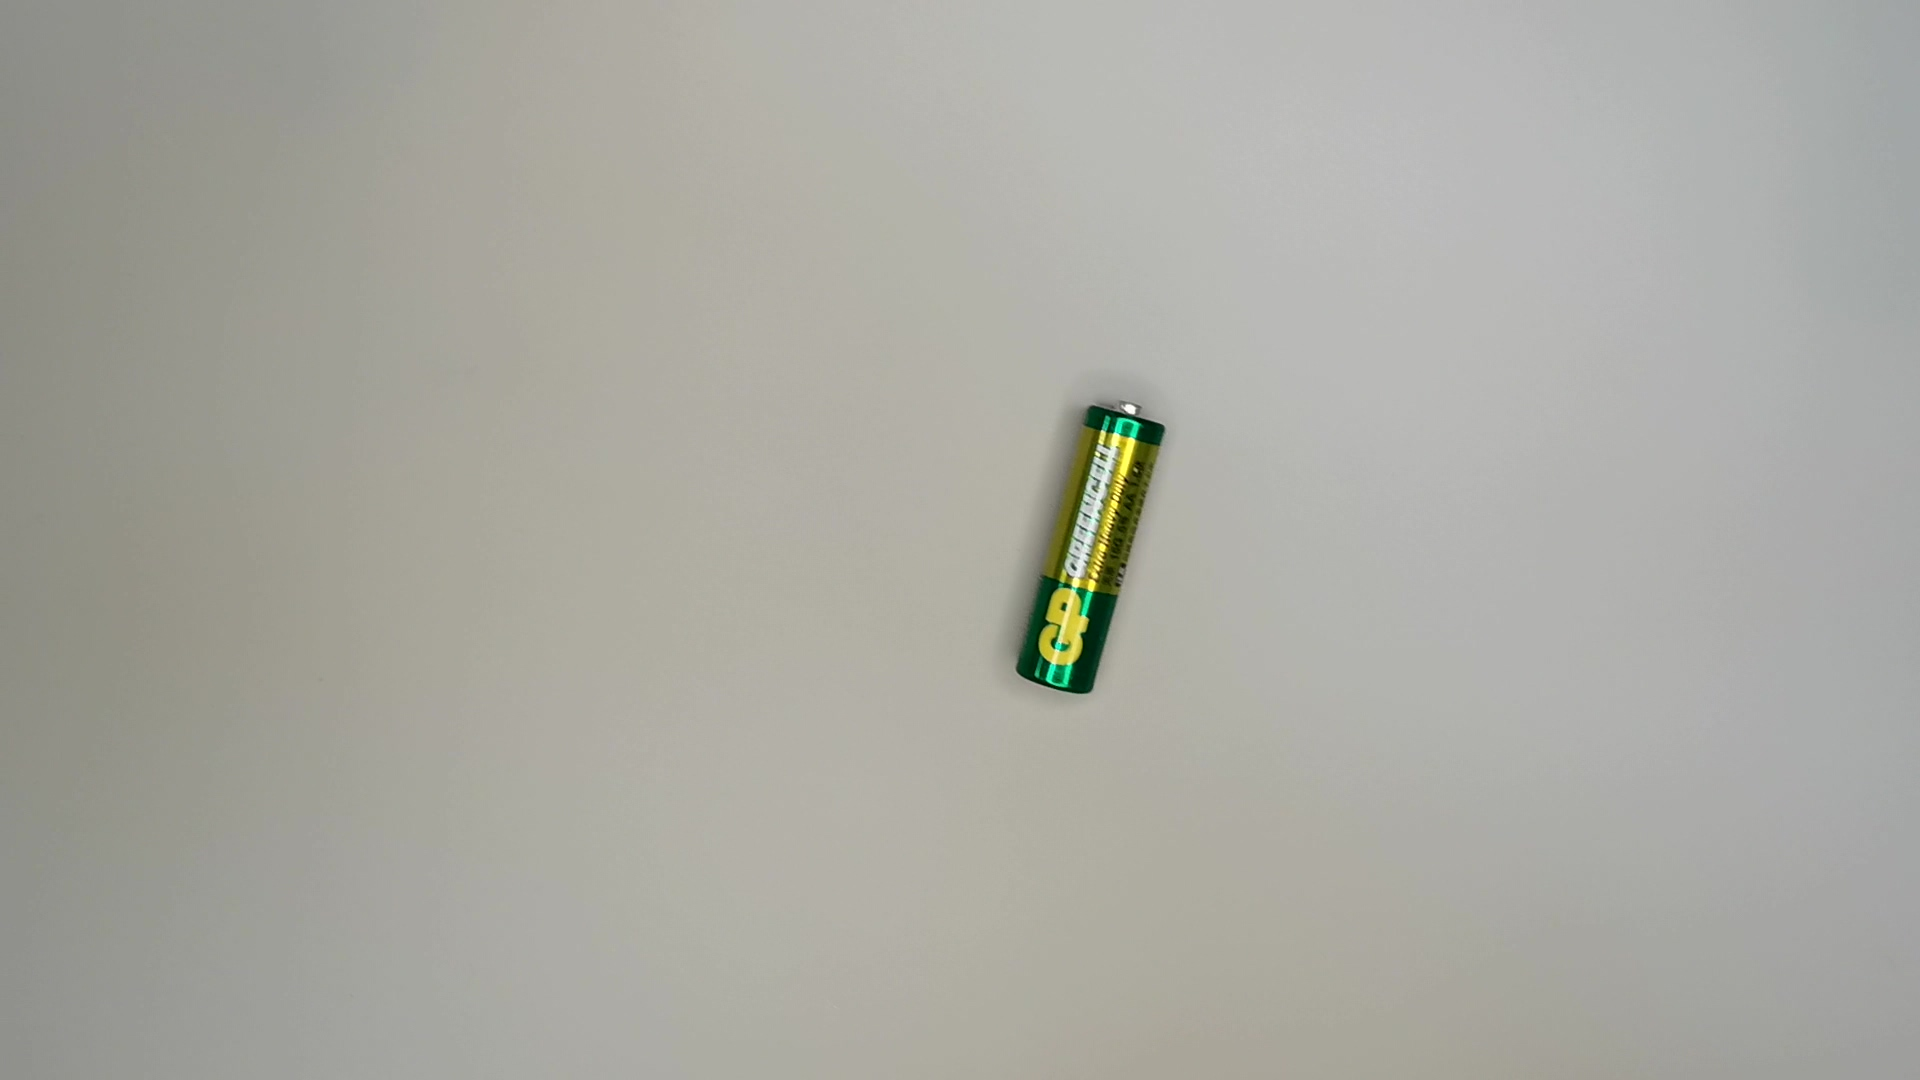battery: (1011, 401, 1175, 700)
